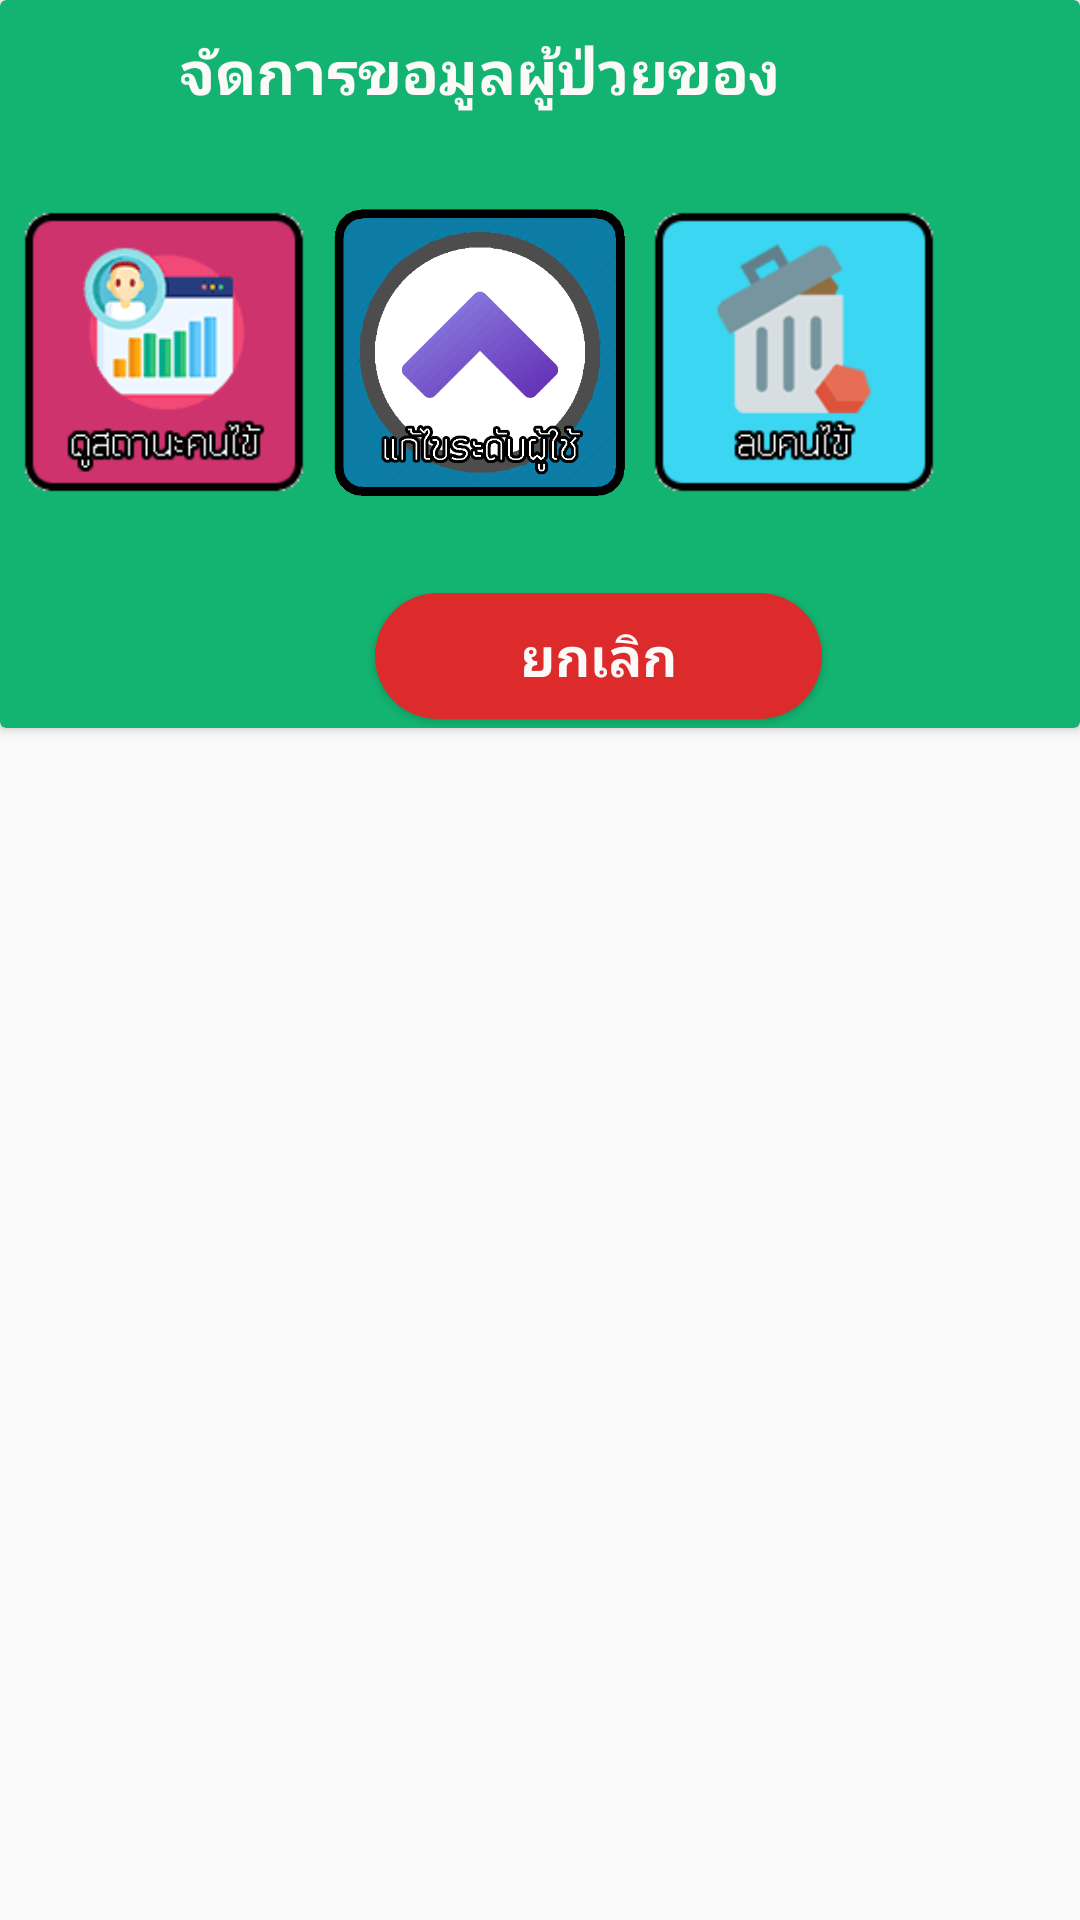

Where to tap for icons on this 1080w x 1920h app screen, as point (x, y):
usrealtime: point (164, 352)
